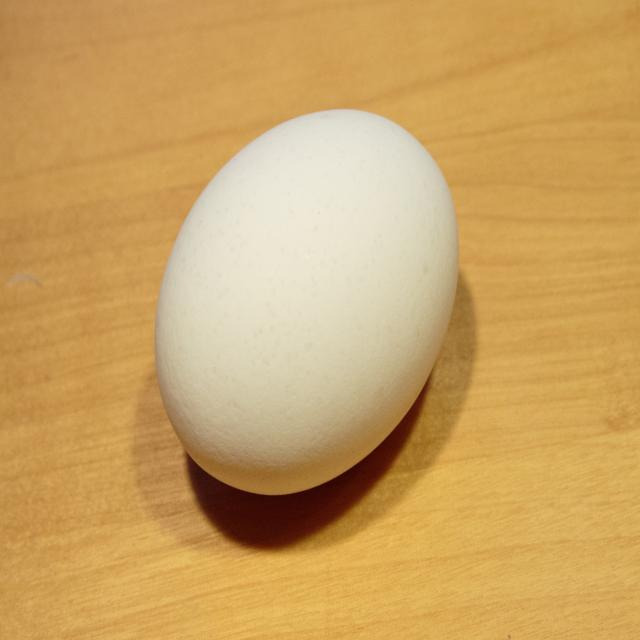egg: (152, 103, 462, 501)
